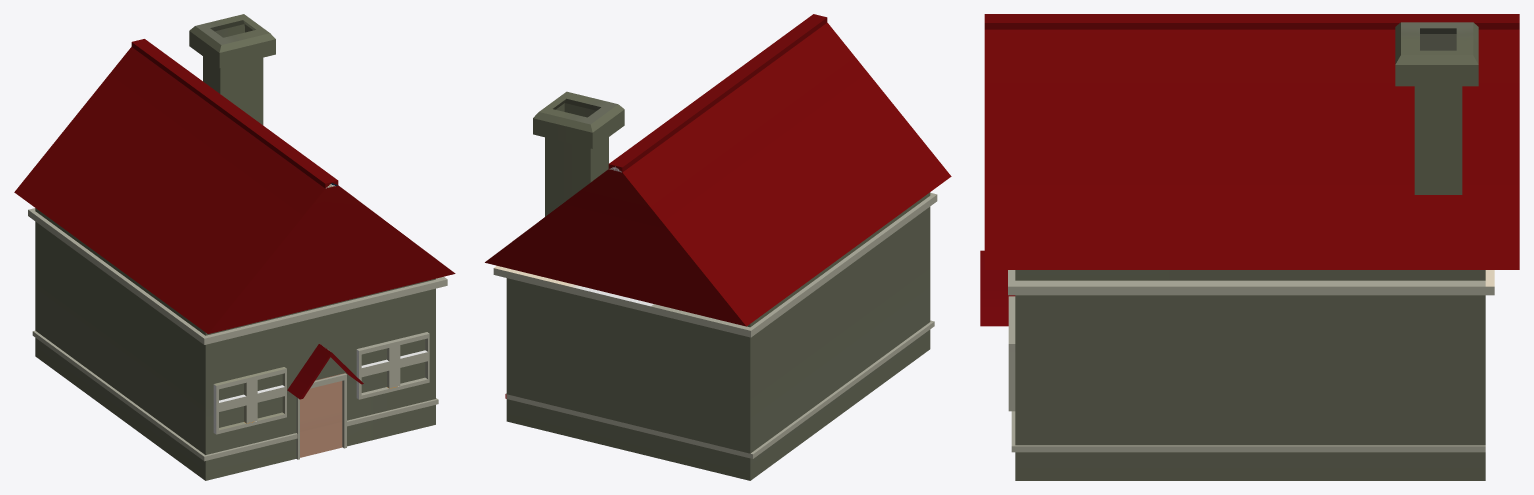
File: casa 1.fbx
3 views of the same model, side by side, from view 1: azimuth 30°, elevation 25°; view 2: azimuth 150°, elevation 25°; view 3: azimuth 270°, elevation 25° (orthographic). The views are drawn at different scales.
Visible parts, largest first — view 1: Tejado; view 2: Tejado; view 3: Tejado.
Boxes of the visible parts, x1,y1,x2,y2 form: Tejado: (14,14,455,480); Tejado: (485,14,951,480); Tejado: (980,14,1519,480).
Size of the model in its own units: 326 by 372 by 445.
1 material, 1 textured.
